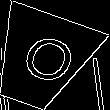O_S: (8, 29, 75, 91)
